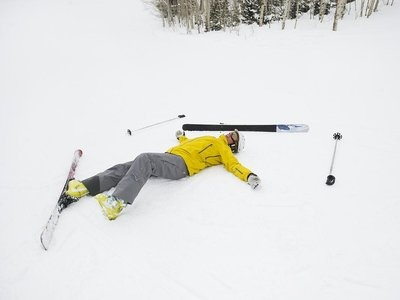falling: (51, 115, 267, 226)
